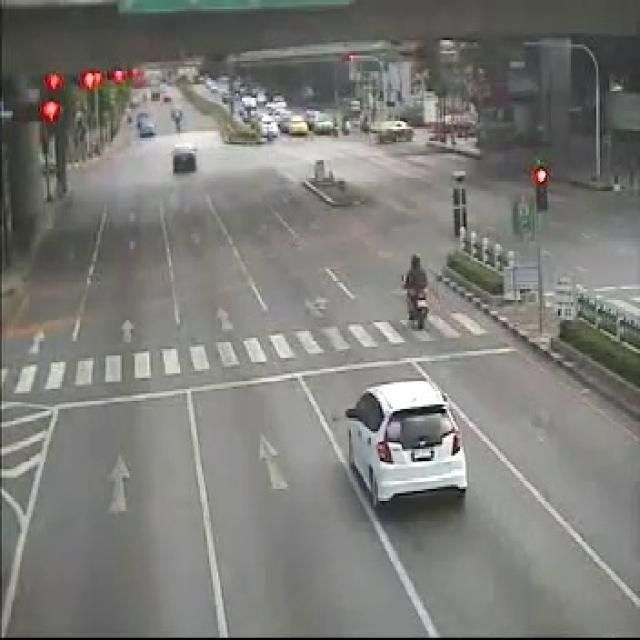car: (343, 383, 466, 504)
motobike: (402, 252, 426, 327)
red_light: (528, 161, 549, 210), (77, 72, 140, 87)
stop_line: (53, 343, 516, 410)
